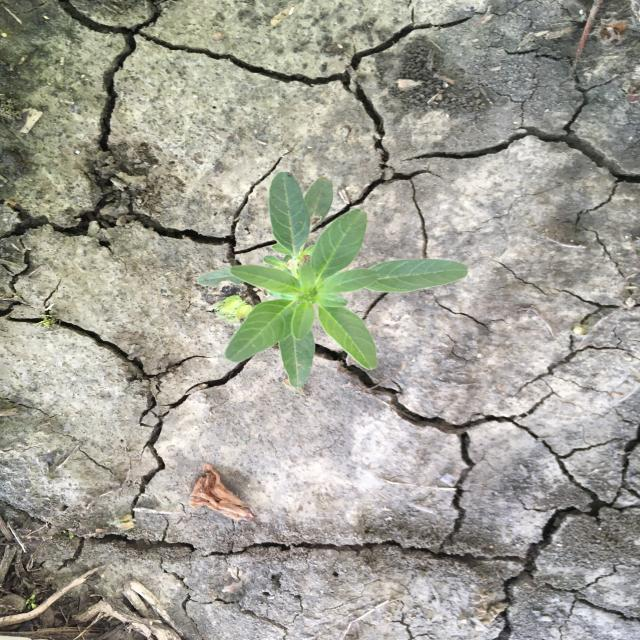Waterhemp: (194, 170, 471, 389)
